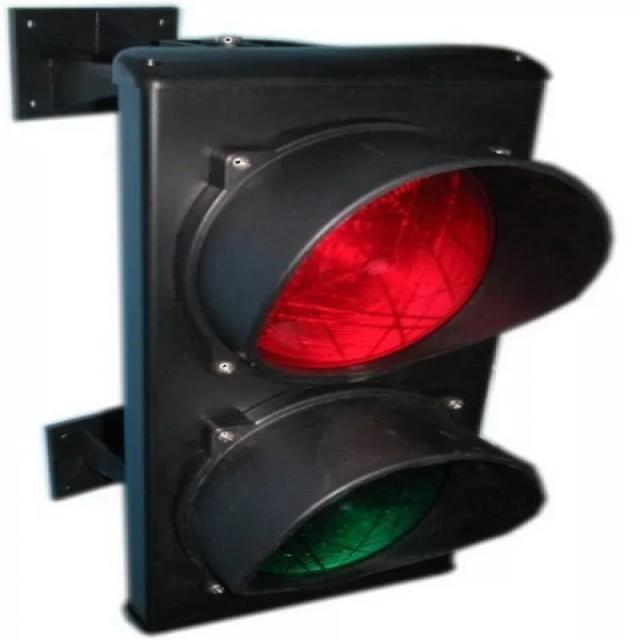red_light: (166, 136, 640, 399)
